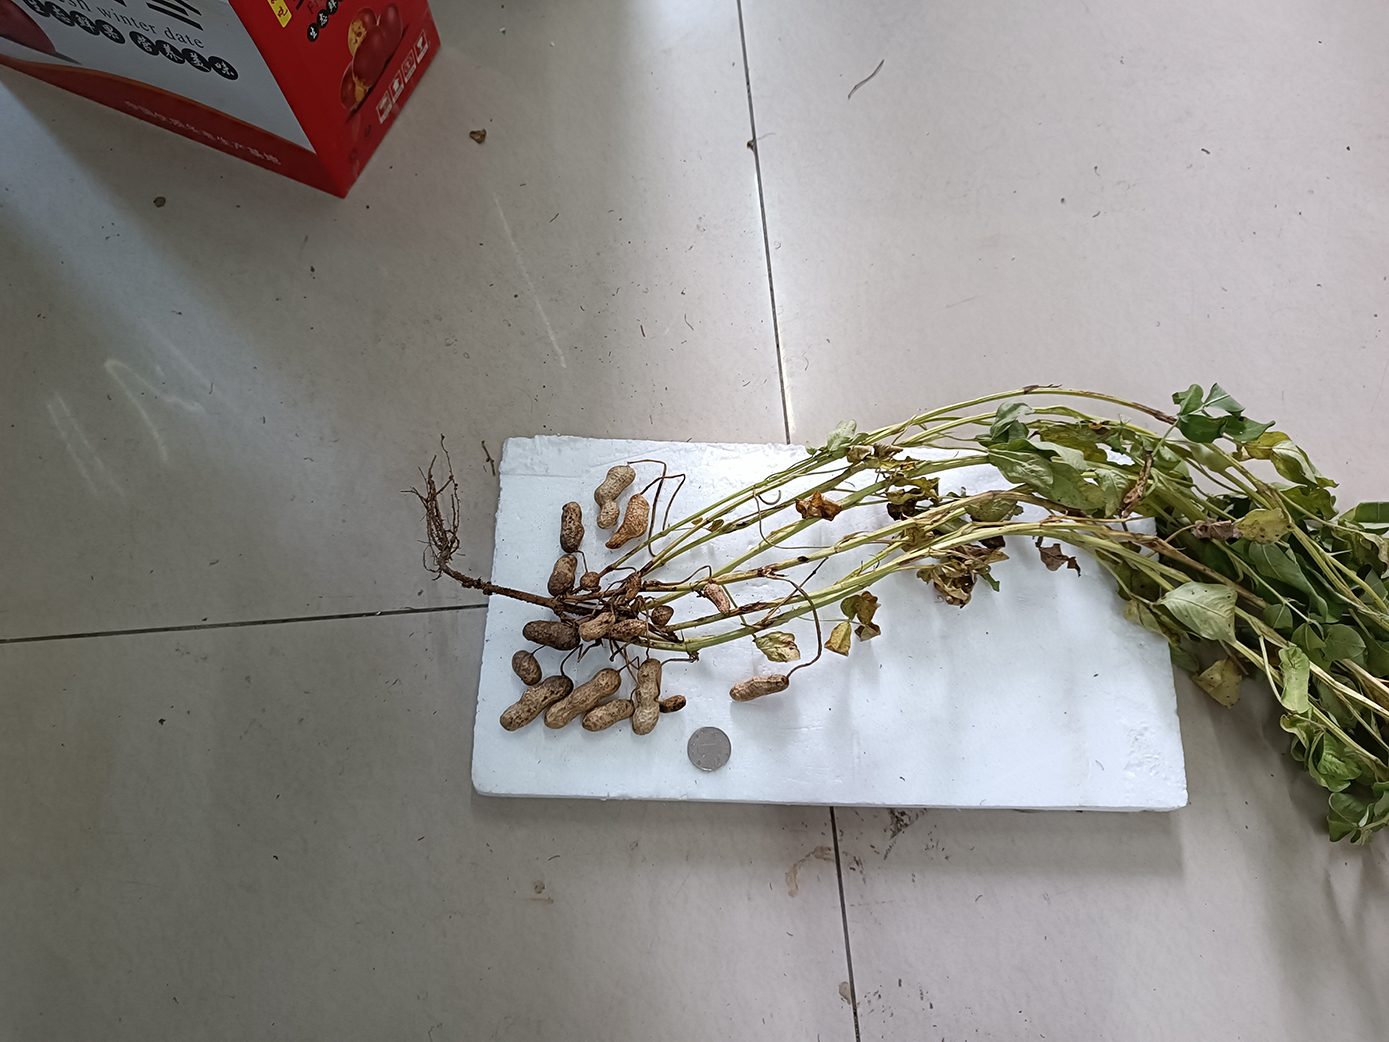h: (543, 668, 623, 729), (499, 675, 572, 732), (594, 465, 637, 529), (606, 495, 649, 551), (632, 659, 662, 736), (582, 701, 633, 731), (730, 675, 790, 701), (547, 553, 577, 597), (512, 651, 543, 686), (580, 612, 615, 641), (705, 583, 731, 616), (610, 620, 648, 641), (656, 695, 686, 713), (651, 606, 674, 627), (626, 574, 641, 599), (579, 572, 599, 590)
l: (523, 621, 580, 651), (560, 502, 584, 553)
